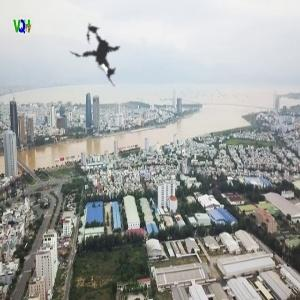drone: (45, 2, 155, 112)
